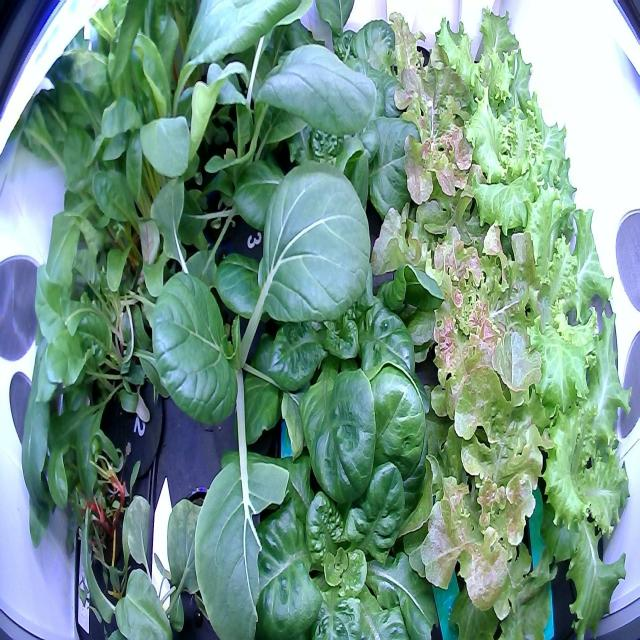Ready: (210, 358, 477, 638)
